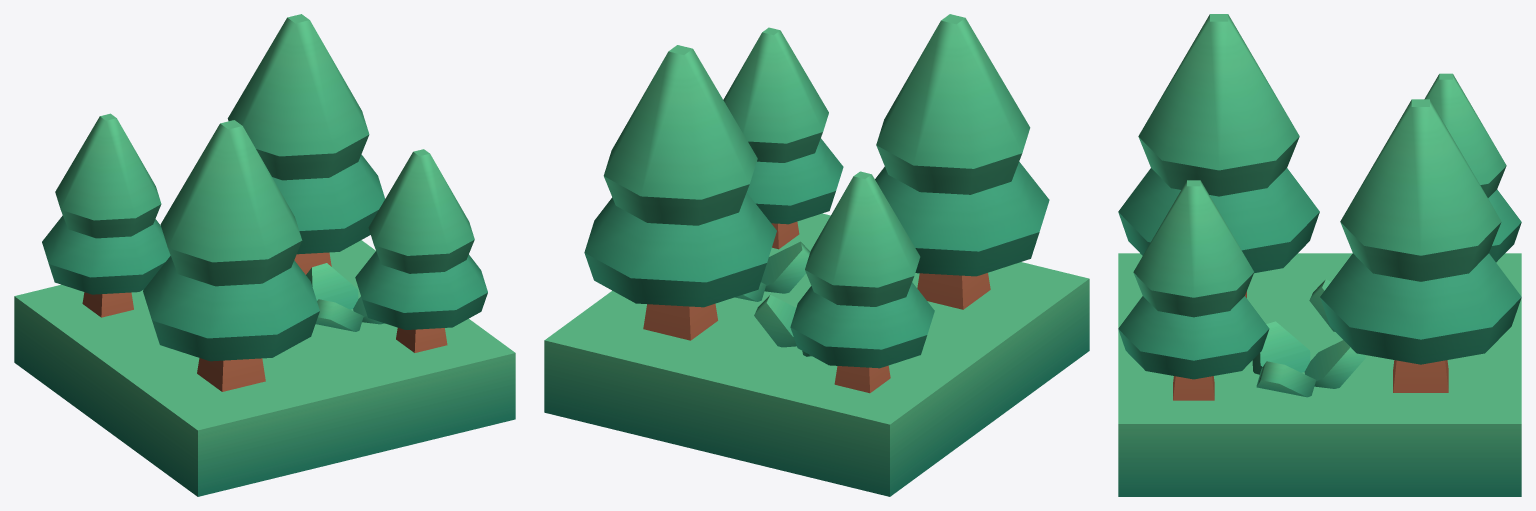
Rendered from kenney-tower-defense-tile-tree-quad.glb.
The picture shows the model from 3 angles, left to right: view 1: azimuth 30°, elevation 25°; view 2: azimuth 150°, elevation 25°; view 3: azimuth 270°, elevation 25°; orthographic projection. The views are drawn at different scales.
Parts seen in each view (by area): view 1: tile-tree-quad; view 2: tile-tree-quad; view 3: tile-tree-quad.
Boxes of the visible parts, x1,y1,x2,y2 form: tile-tree-quad: (14, 14, 515, 496); tile-tree-quad: (544, 14, 1089, 496); tile-tree-quad: (1118, 14, 1521, 496).
Size of the model in its own units: 1 by 0.96 by 1.
1 material, 1 textured.
